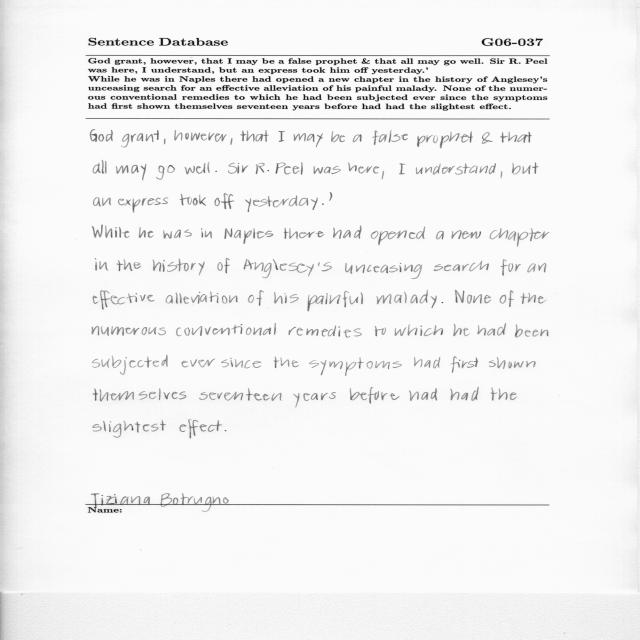word: (309, 357, 402, 376), (244, 259, 332, 278), (92, 355, 168, 375), (93, 420, 166, 438), (176, 324, 276, 337), (345, 263, 422, 279), (94, 290, 155, 310), (94, 389, 187, 402), (307, 291, 363, 311), (376, 290, 437, 308), (490, 228, 550, 246), (199, 388, 282, 401), (371, 227, 425, 246), (253, 195, 318, 210), (288, 325, 362, 338), (416, 163, 496, 175), (417, 131, 473, 148), (165, 291, 238, 304), (153, 259, 205, 276), (350, 387, 400, 404), (180, 420, 223, 439), (118, 197, 168, 213), (225, 228, 274, 244), (92, 326, 166, 336), (293, 392, 336, 408), (121, 130, 159, 147), (174, 130, 227, 142), (395, 325, 443, 337), (489, 357, 536, 369), (434, 261, 489, 271), (372, 130, 408, 145), (455, 290, 491, 304), (92, 225, 130, 238), (116, 164, 146, 180), (450, 356, 478, 373), (515, 324, 548, 338), (284, 228, 325, 239), (221, 358, 262, 369), (294, 133, 323, 147), (333, 225, 362, 239), (450, 387, 479, 401), (478, 323, 507, 336), (275, 162, 303, 175), (409, 388, 437, 401), (491, 387, 517, 401), (500, 132, 532, 143), (240, 130, 269, 142), (348, 163, 379, 174), (501, 259, 521, 276), (180, 194, 207, 206), (215, 193, 235, 209), (512, 162, 538, 174), (185, 162, 210, 174), (116, 259, 141, 271), (274, 292, 299, 304), (90, 129, 113, 142), (163, 229, 192, 239), (521, 293, 547, 304), (274, 357, 300, 368), (414, 357, 440, 368), (156, 165, 175, 180), (181, 359, 215, 367), (452, 230, 481, 239), (248, 290, 264, 306), (500, 290, 514, 307), (313, 166, 341, 174), (229, 163, 249, 174), (453, 324, 470, 336), (93, 160, 107, 174), (217, 259, 230, 274), (527, 263, 546, 273), (95, 258, 109, 271), (93, 197, 111, 207), (139, 227, 154, 238), (331, 131, 345, 142), (256, 163, 269, 174), (482, 132, 493, 144), (201, 229, 212, 239), (375, 326, 386, 336), (245, 198, 251, 212), (278, 131, 285, 142), (399, 164, 406, 175), (353, 134, 362, 142), (436, 231, 444, 239), (329, 192, 332, 201), (230, 138, 233, 145), (382, 171, 384, 180), (501, 171, 503, 178), (164, 139, 165, 145), (322, 203, 324, 205), (215, 171, 217, 172), (442, 302, 444, 303), (225, 430, 227, 431)
